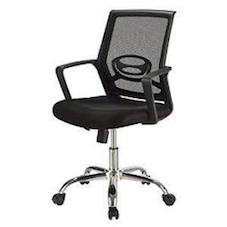chair: (51, 5, 190, 217), (51, 5, 191, 213)
